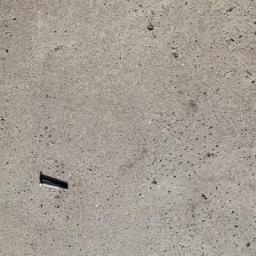FOD: (37, 171, 73, 195)
